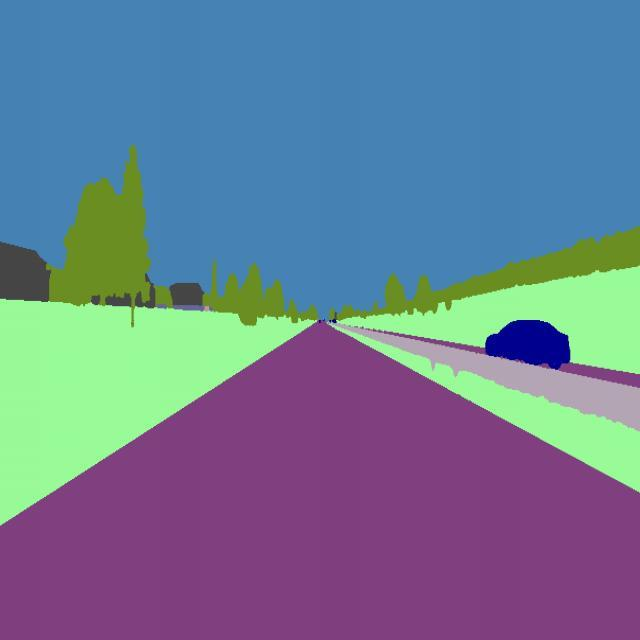safe: (482, 313, 574, 372)
